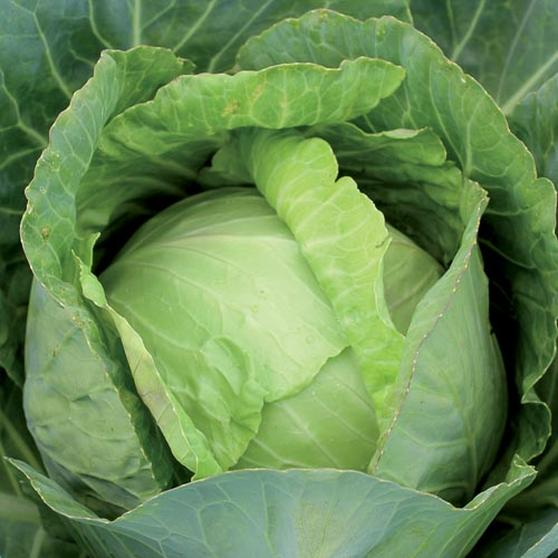cabbage: (33, 78, 526, 539)
